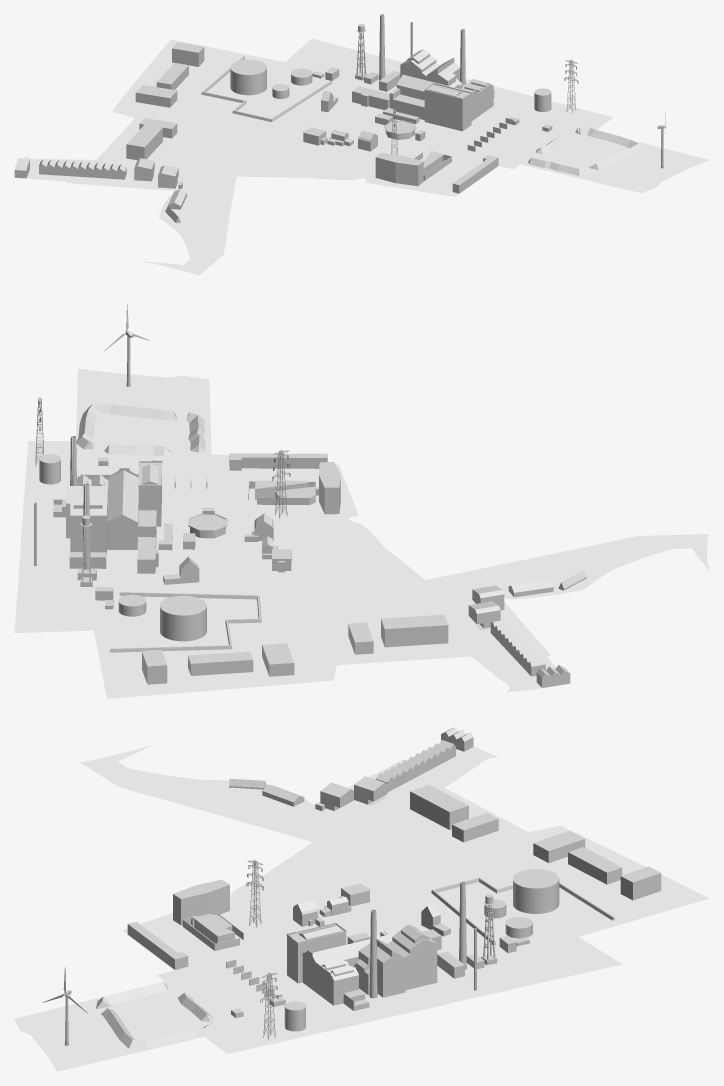
File: TransfoModel.a0a83ced.gltf
3 views of the same model, one above another, from view 1: azimuth 30°, elevation 25°; view 2: azimuth 150°, elevation 25°; view 3: azimuth 270°, elevation 25° (orthographic). The views are drawn at different scales.
Visible parts, largest first — view 1: Ground, 271549, 271615, 271530, 271614, 101745, 271608, 271474, 271529, 271544, 271533, Mast2; view 2: Ground, 271549, 271615, 271530, 271614, 271608, 101745, 271544, 271474, 271529, 271533, Mast3 (+2 smaller); view 3: Ground, 271549, 271615, 271530, 271614, 101745, 271608, 271474, 271529, 271544, Mast3, 271545 (+2 smaller).
Boxes of the visible parts, left/top/right/bottom form: Ground: left=14, top=38, right=709, bottom=275; 271549: left=352, top=29, right=494, bottom=131; 271615: left=126, top=42, right=204, bottom=159; 271530: left=201, top=56, right=339, bottom=122; 271614: left=14, top=158, right=182, bottom=188; 101745: left=375, top=151, right=451, bottom=186; 271608: left=528, top=127, right=643, bottom=175; 271474: left=355, top=14, right=400, bottom=91; 271529: left=303, top=127, right=377, bottom=151; 271544: left=452, top=155, right=498, bottom=193; 271533: left=384, top=120, right=416, bottom=139; Mast2: left=564, top=59, right=578, bottom=112; Ground: left=14, top=368, right=709, bottom=698; 271549: left=53, top=436, right=172, bottom=573; 271615: left=142, top=614, right=448, bottom=684; 271530: left=95, top=587, right=261, bottom=652; 271614: left=468, top=585, right=570, bottom=687; 271608: left=76, top=403, right=205, bottom=456; 101745: left=248, top=462, right=340, bottom=514; 271544: left=229, top=453, right=327, bottom=470; 271474: left=69, top=483, right=106, bottom=586; 271529: left=244, top=513, right=291, bottom=572; 271533: left=188, top=513, right=227, bottom=538; Mast3: left=272, top=449, right=290, bottom=518; Ground: left=14, top=744, right=709, bottom=1071; 271549: left=286, top=909, right=441, bottom=1010; 271615: left=410, top=785, right=661, bottom=900; 271530: left=431, top=869, right=614, bottom=952; 271614: left=315, top=727, right=473, bottom=810; 101745: left=173, top=879, right=243, bottom=950; 271608: left=96, top=981, right=216, bottom=1048; 271474: left=437, top=881, right=497, bottom=978; 271529: left=293, top=883, right=369, bottom=926; 271544: left=127, top=922, right=188, bottom=969; Mast3: left=246, top=859, right=263, bottom=927; 271545: left=284, top=1001, right=305, bottom=1031.
Size of the model in its own units: 477 by 58.79 by 421.
184 materials, 162 textured.
